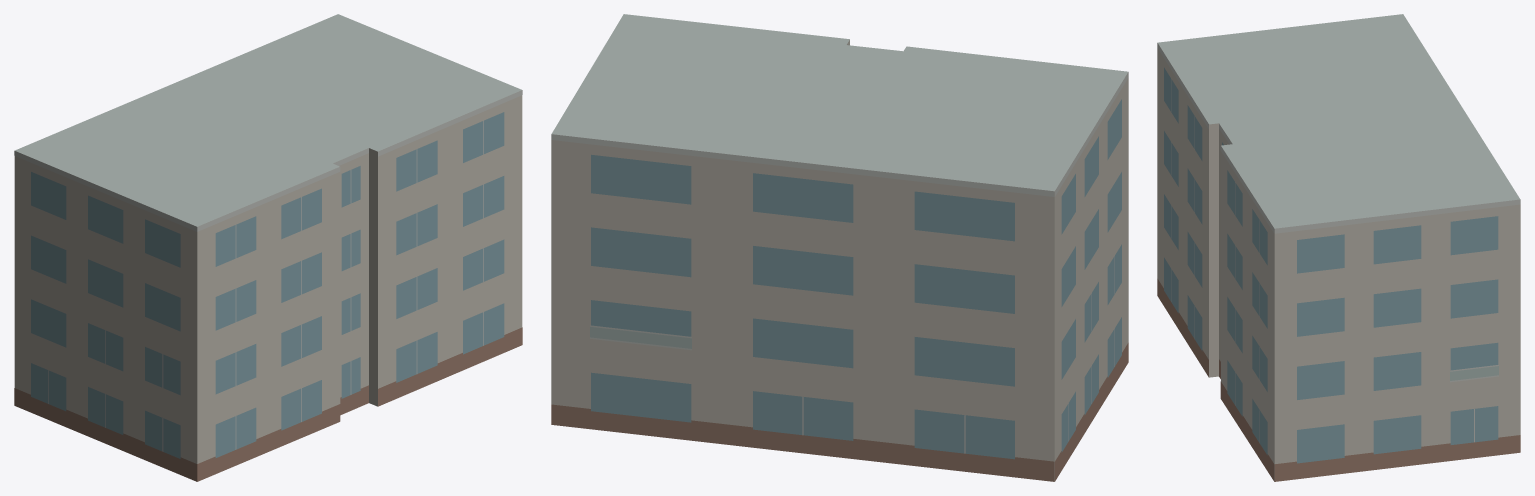
The model's file is survey-upis-32890612.glb.
The picture shows the model from 3 angles, left to right: view 1: azimuth 30°, elevation 25°; view 2: azimuth 150°, elevation 25°; view 3: azimuth 270°, elevation 25°; orthographic projection. The views are drawn at different scales.
Parts seen in each view (by area): view 1: survey-upis-32890612.tmp; view 2: survey-upis-32890612.tmp; view 3: survey-upis-32890612.tmp.
Boxes of the visible parts, left/top/right/bottom form: survey-upis-32890612.tmp: left=14, top=14, right=522, bottom=481; survey-upis-32890612.tmp: left=551, top=14, right=1128, bottom=481; survey-upis-32890612.tmp: left=1157, top=14, right=1520, bottom=481.
Size of the model in its own units: 22.19 by 12.2 by 15.86.
